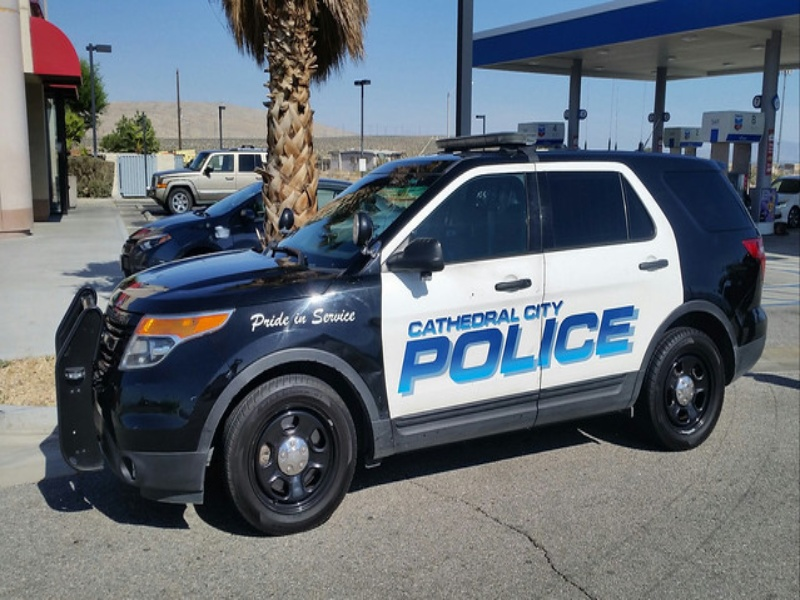policecar: (43, 126, 776, 515)
